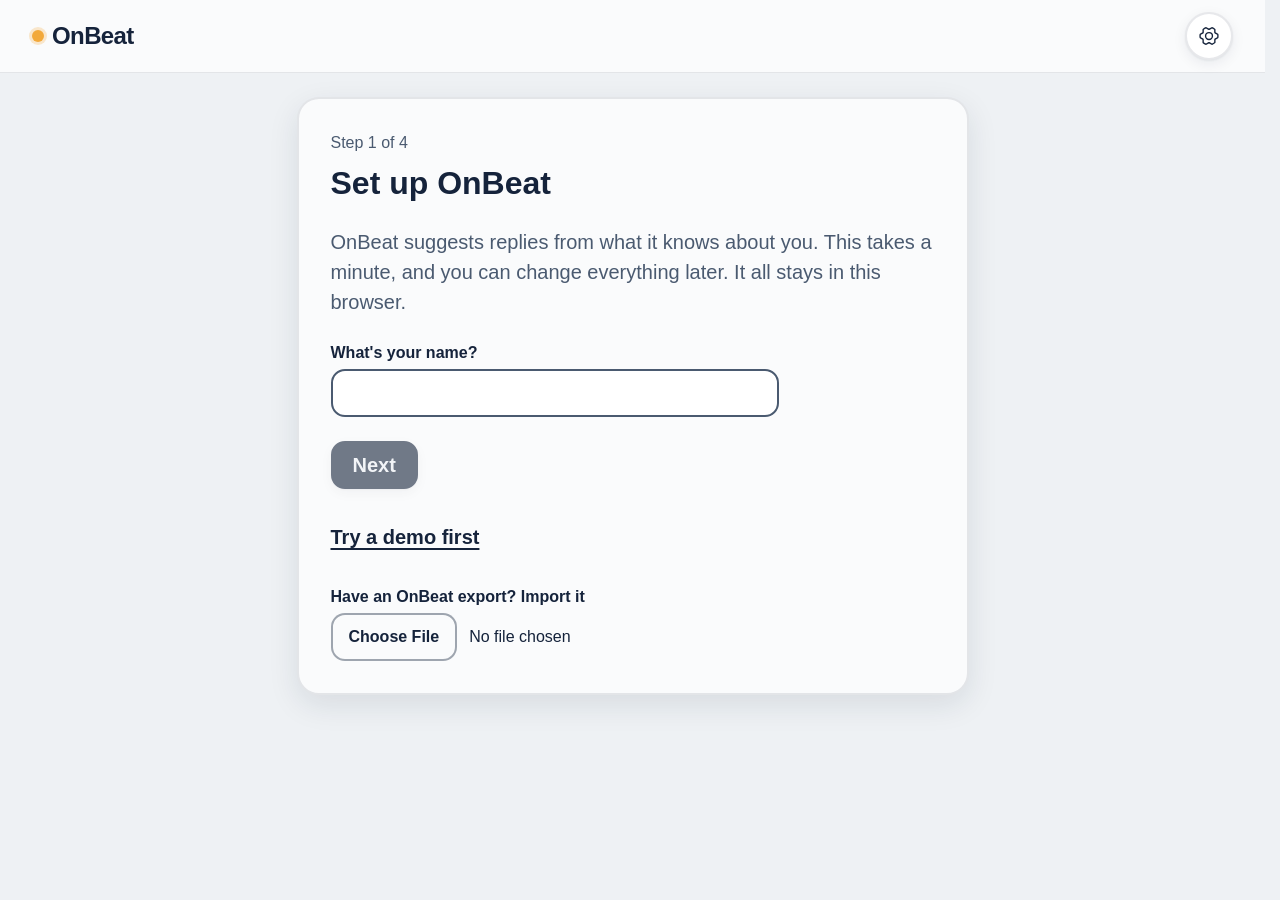
Scenario: ConversationScreen › goes back from the demo list to setup
Click the button "Try a demo first" at [405, 537], box [330, 513, 479, 561]
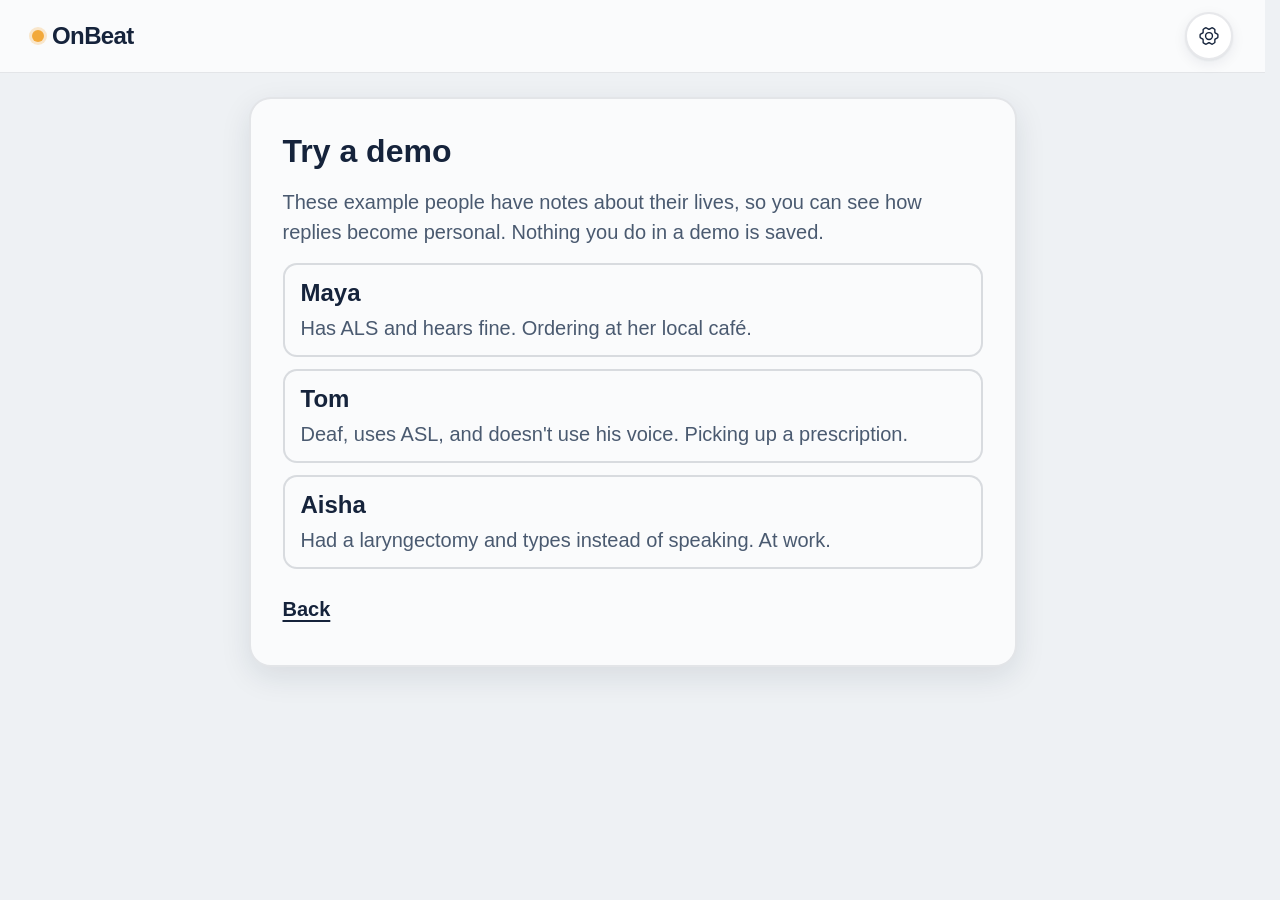
Click the button "Back" at [306, 609], box [282, 585, 330, 633]
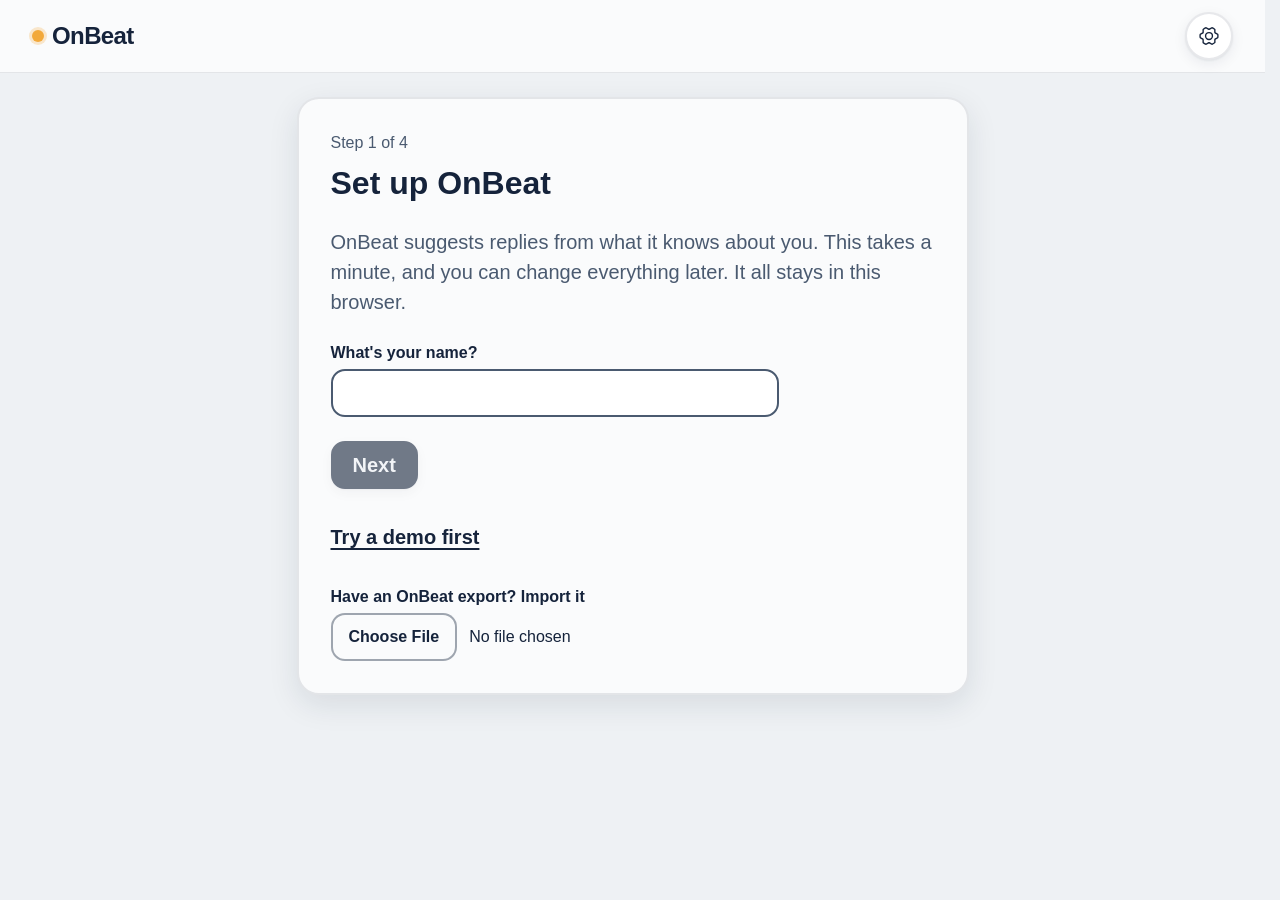
Result: the heading "Set up OnBeat" is shown at [330, 165, 551, 201]
